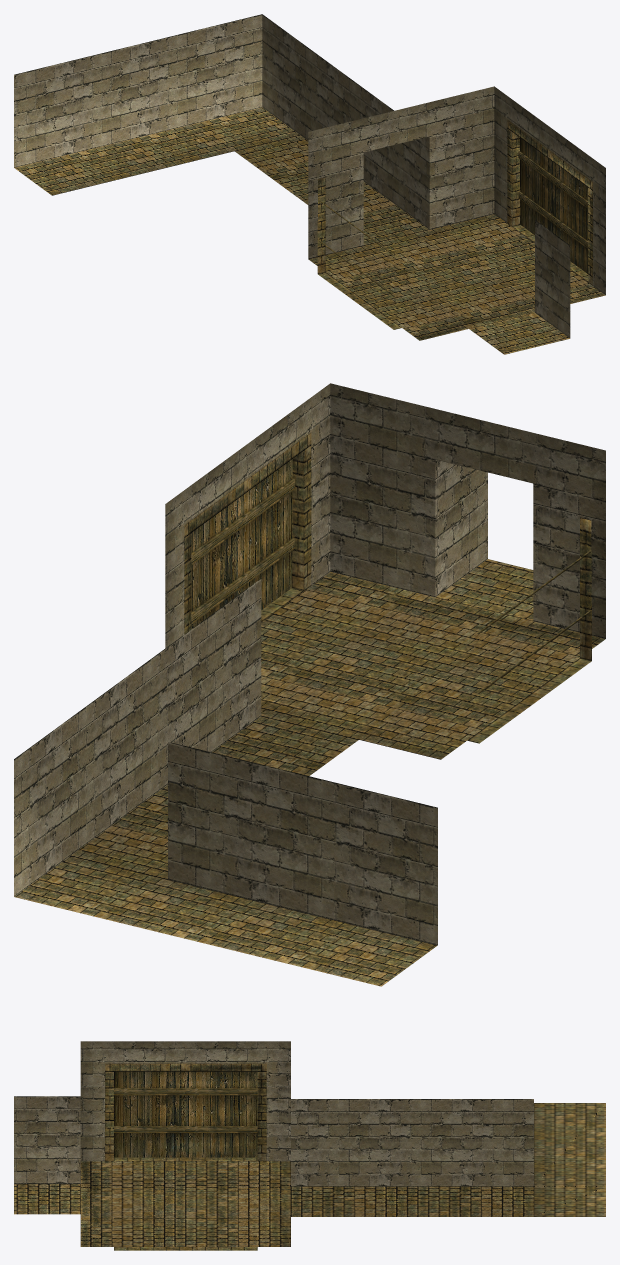
File: M12_DogLeg2.glb
3 views of the same model, one above another, from view 1: azimuth 30°, elevation 25°; view 2: azimuth 150°, elevation 25°; view 3: azimuth 270°, elevation 25° (orthographic). The views are drawn at different scales.
Parts seen in each view (by area): view 1: M12_DOGLEG2; view 2: M12_DOGLEG2; view 3: M12_DOGLEG2.
Boxes of the visible parts, x1,y1,x2,y2 form: M12_DOGLEG2: (14, 14, 605, 354); M12_DOGLEG2: (14, 383, 605, 986); M12_DOGLEG2: (14, 1041, 605, 1250).
Size of the model in its own units: 9.74 by 3.69 by 16.48.
Materials: 4 (4 with a texture image).
